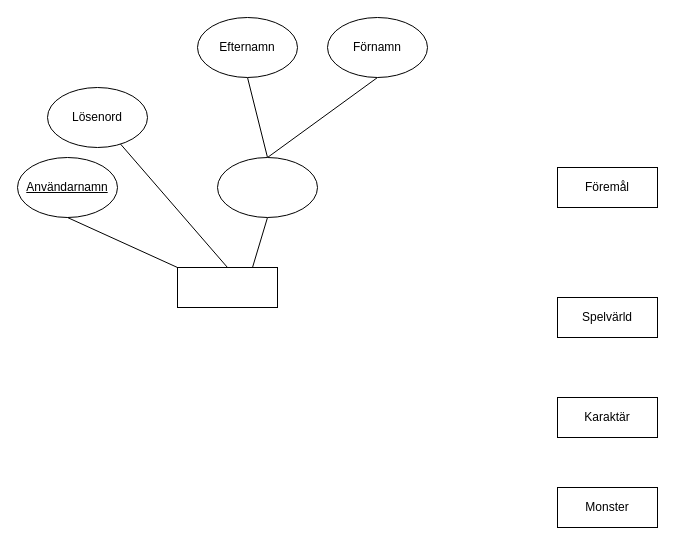
Some shapes in this 675 by 545 pixel diagram are drawn without their labels. The centre of each missing label's shape, as x and y in pixels:
"Användare" belongs at point (227, 287).
"Namn" belongs at point (267, 187).
